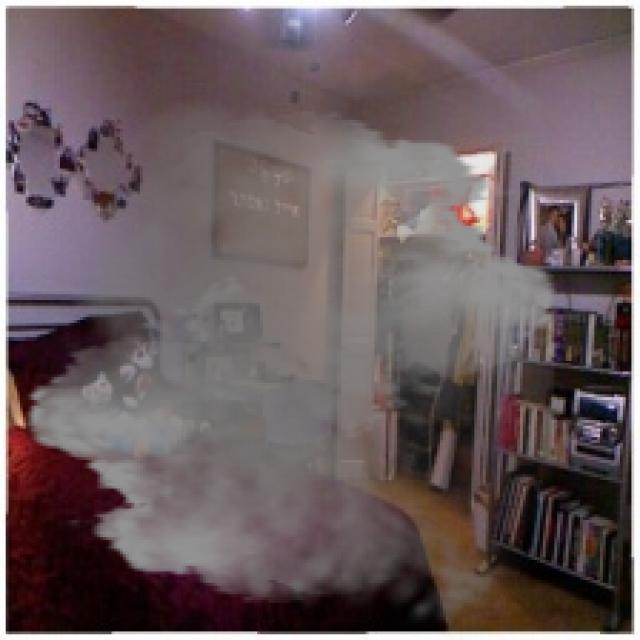Smoke: (9, 88, 578, 638)
